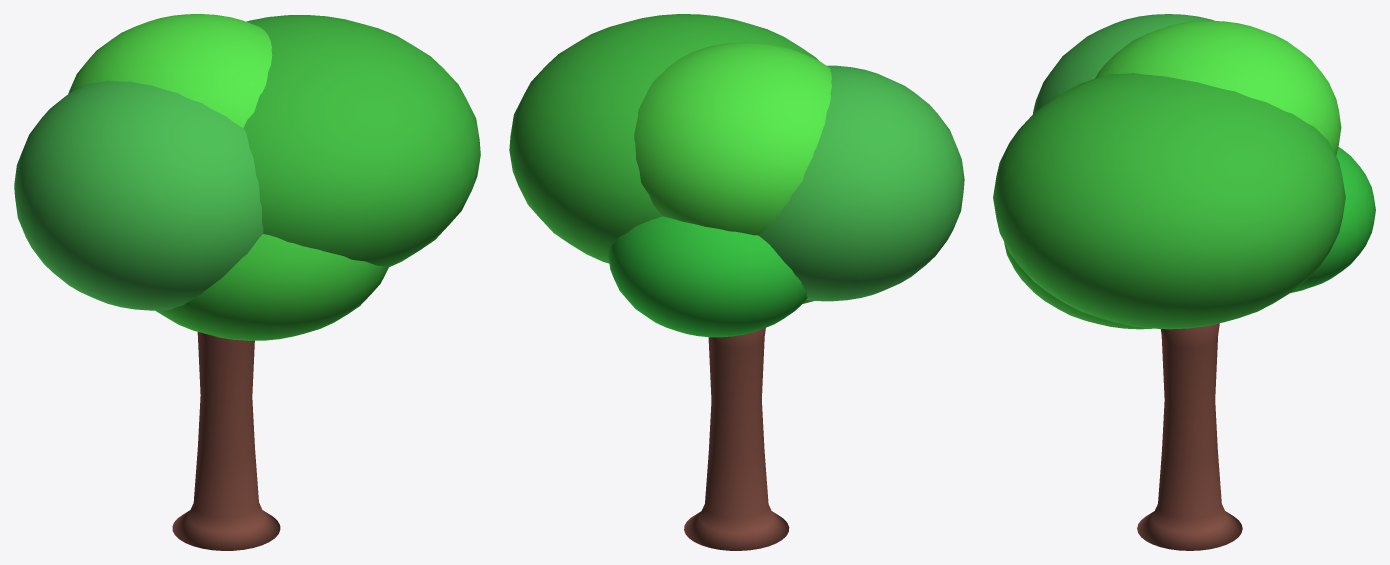
The model's file is TreeRender.fbx.
The picture shows the model from 3 angles, left to right: view 1: azimuth 30°, elevation 25°; view 2: azimuth 150°, elevation 25°; view 3: azimuth 270°, elevation 25°; orthographic projection. The views are drawn at different scales.
Parts seen in each view (by area): view 1: Sphere.003, Sphere.002, Sphere, Cylinder, Sphere.004; view 2: Sphere.002, Sphere.004, Sphere.003, Sphere.001, Cylinder; view 3: Sphere.003, Cylinder, Sphere.004, Sphere.002, Sphere.001, Sphere.
Part boxes in pixels (box(x1,y1,x2,y2)): Sphere.003: box(243, 15, 480, 267); Sphere.002: box(14, 80, 263, 310); Sphere: box(155, 234, 388, 340); Cylinder: box(172, 332, 280, 550); Sphere.004: box(68, 14, 272, 127); Sphere.002: box(759, 65, 964, 301); Sphere.004: box(634, 42, 831, 235); Sphere.003: box(509, 14, 818, 263); Sphere.001: box(608, 216, 807, 337); Cylinder: box(684, 328, 789, 550); Sphere.003: box(993, 73, 1345, 329); Cylinder: box(1137, 323, 1242, 550); Sphere.004: box(1095, 20, 1341, 155); Sphere.002: box(1033, 14, 1214, 113); Sphere.001: box(1290, 147, 1375, 293); Sphere: box(1004, 242, 1151, 329).
Size of the model in its own units: 1125 by 1255 by 901.
